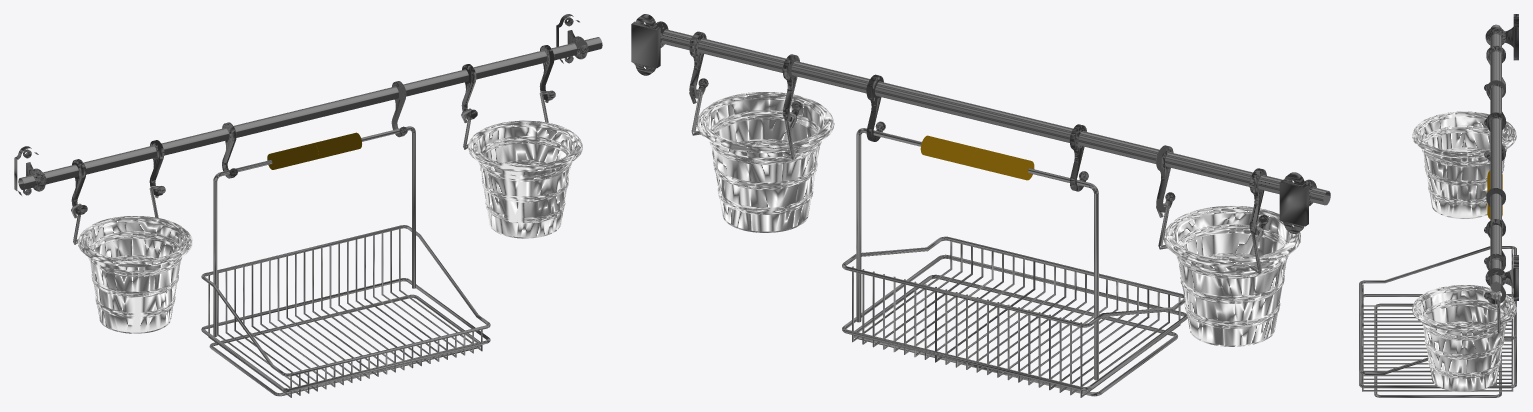
Rendered from hadi7.glb.
3 renders of one model, left to right at view 1: azimuth 30°, elevation 25°; view 2: azimuth 150°, elevation 25°; view 3: azimuth 270°, elevation 25°, orthographic. The views are drawn at different scales.
Parts seen in each view (by area): view 1: Model; view 2: Model; view 3: Model.
Boxes of the visible parts, box(x1,y1,x2,y2) form: Model: box(14, 14, 602, 397); Model: box(631, 14, 1330, 397); Model: box(1359, 14, 1518, 397).
Size of the model in its own units: 0.8 by 0.3117 by 0.2104.
